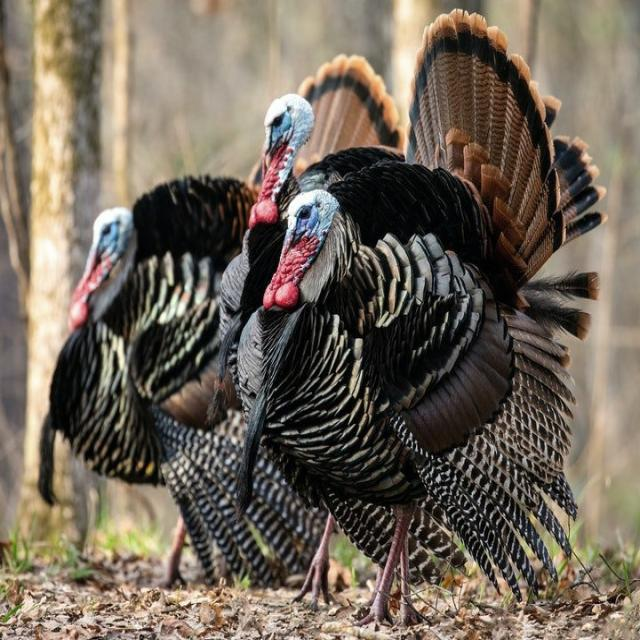turkey: (237, 190, 576, 624), (221, 10, 604, 373)
